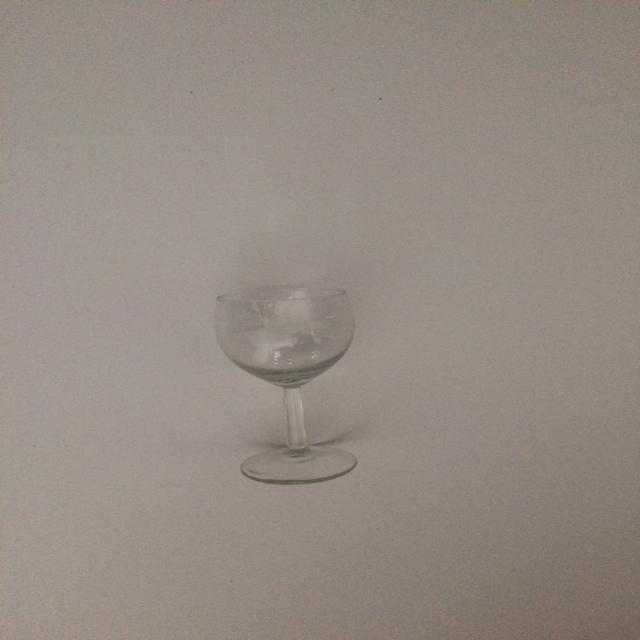glass: (212, 286, 364, 484)
